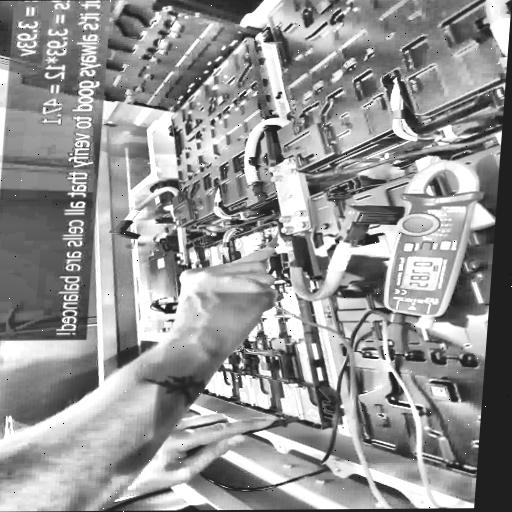high_volt_cable: (281, 196, 406, 314), (240, 114, 297, 207), (104, 184, 181, 240)
low_volt_cable: (310, 122, 503, 184)
nut: (292, 208, 308, 218), (277, 214, 292, 224), (279, 225, 295, 233), (267, 164, 281, 172), (296, 220, 309, 228), (284, 167, 297, 175), (282, 157, 295, 165), (270, 174, 282, 182)
